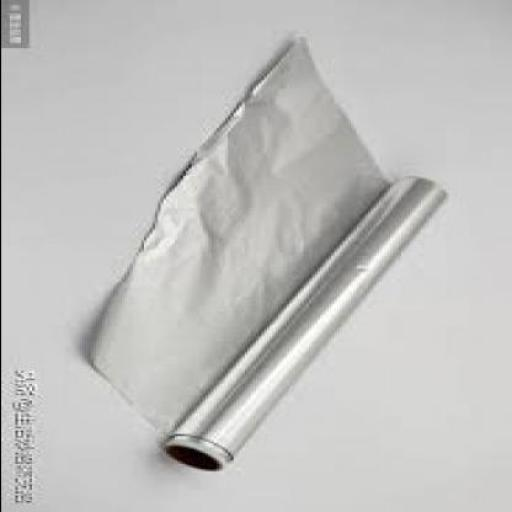metal: (90, 37, 450, 469)
